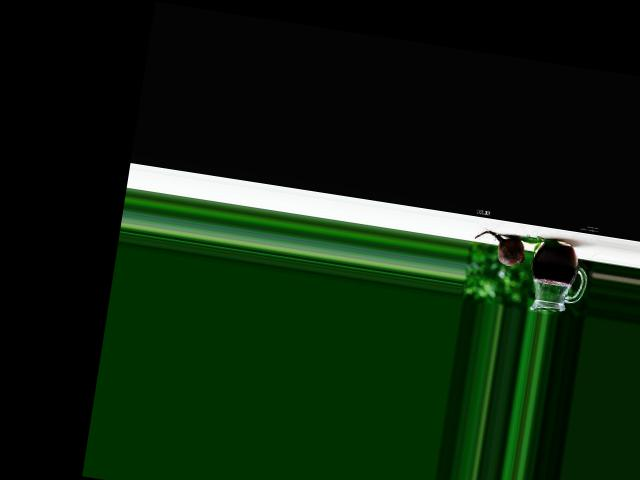beet: (472, 228, 528, 267)
